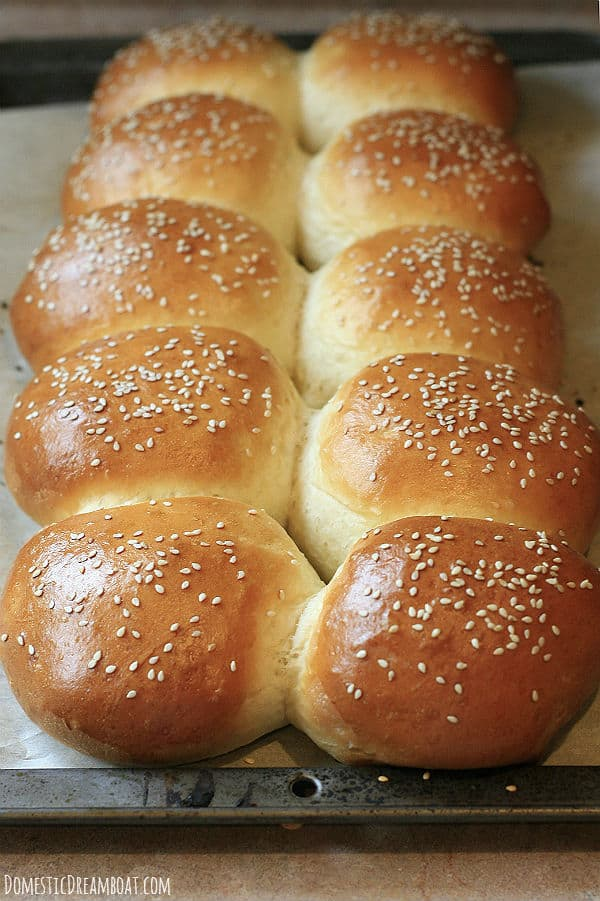hamburger_buns: (8, 471, 309, 716), (361, 137, 546, 360)
